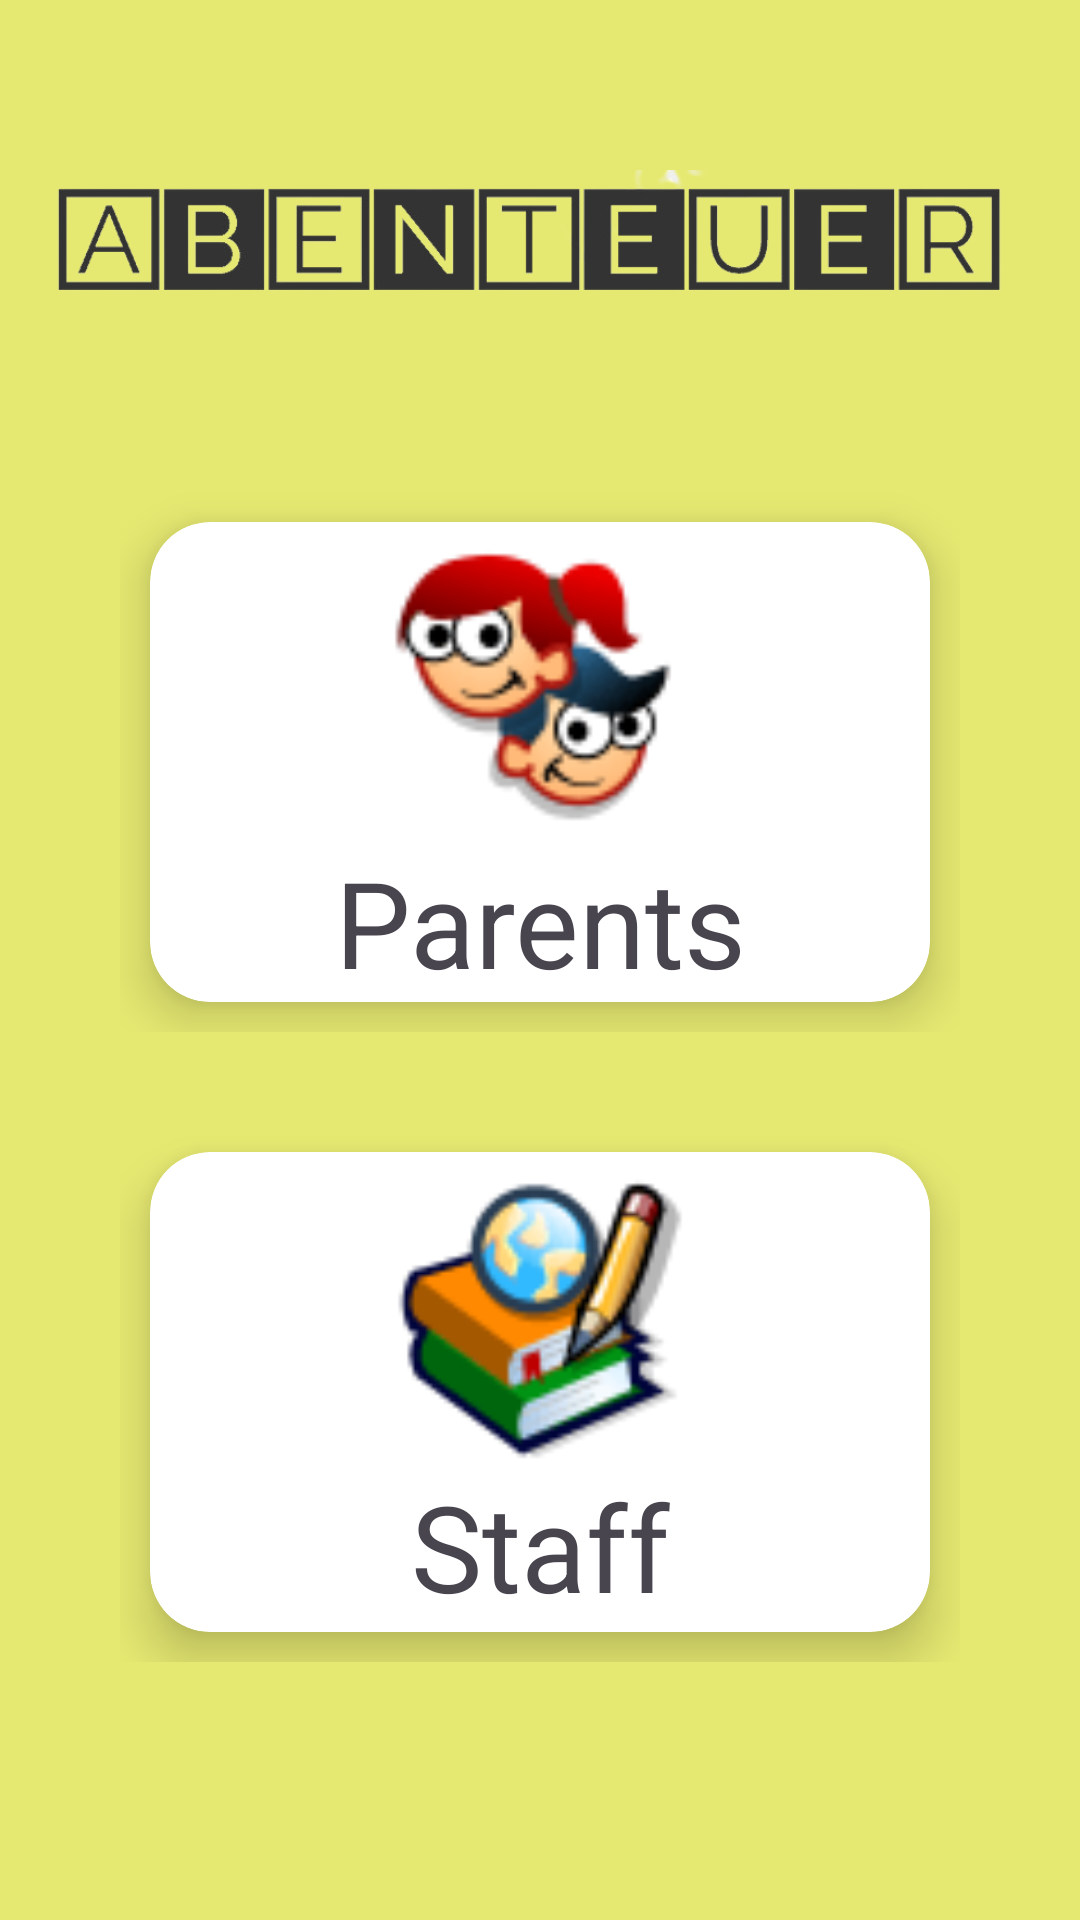

Icons on this 1080*1920 Android screen, each with the point to tap as point (x, y):
kids: point (533, 686)
